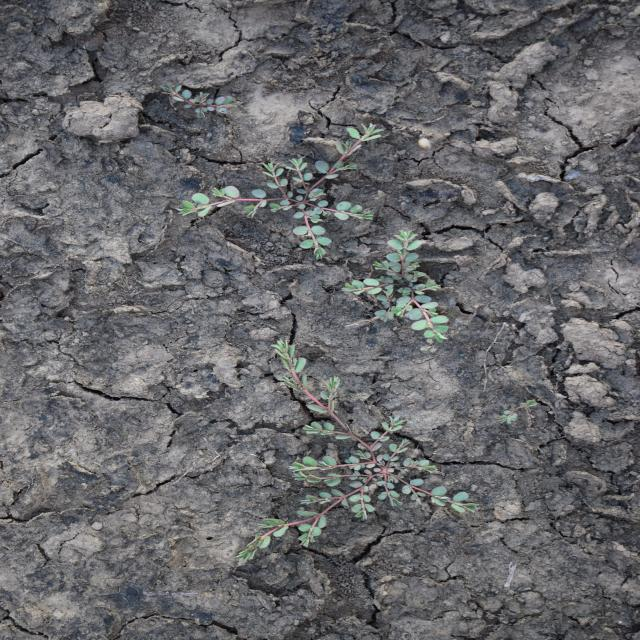SpottedSpurge: (232, 338, 481, 565), (174, 122, 387, 260), (339, 229, 453, 345), (159, 82, 242, 124)
